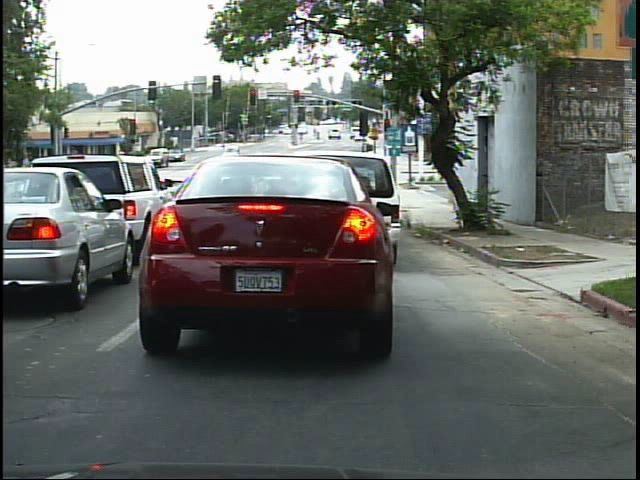person: (380, 143, 402, 193), (393, 150, 410, 188)
